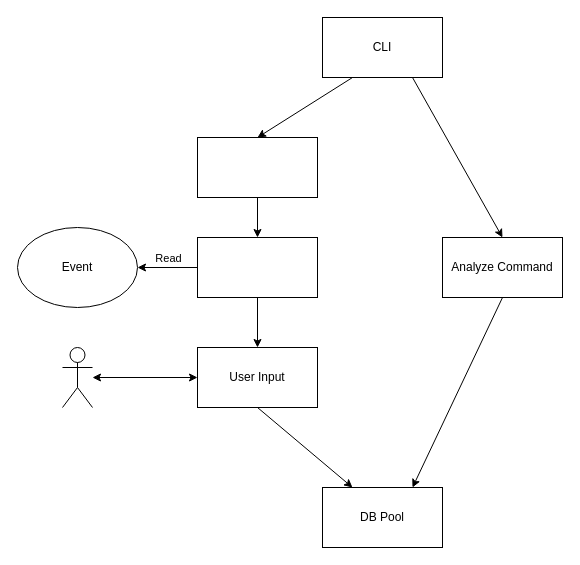
Image size: 580x565. Some labels were removed from this diagram. Each missing label, with the box of its shape:
Feedback Command: (196, 136, 318, 198)
JSON Parser: (196, 236, 318, 298)
